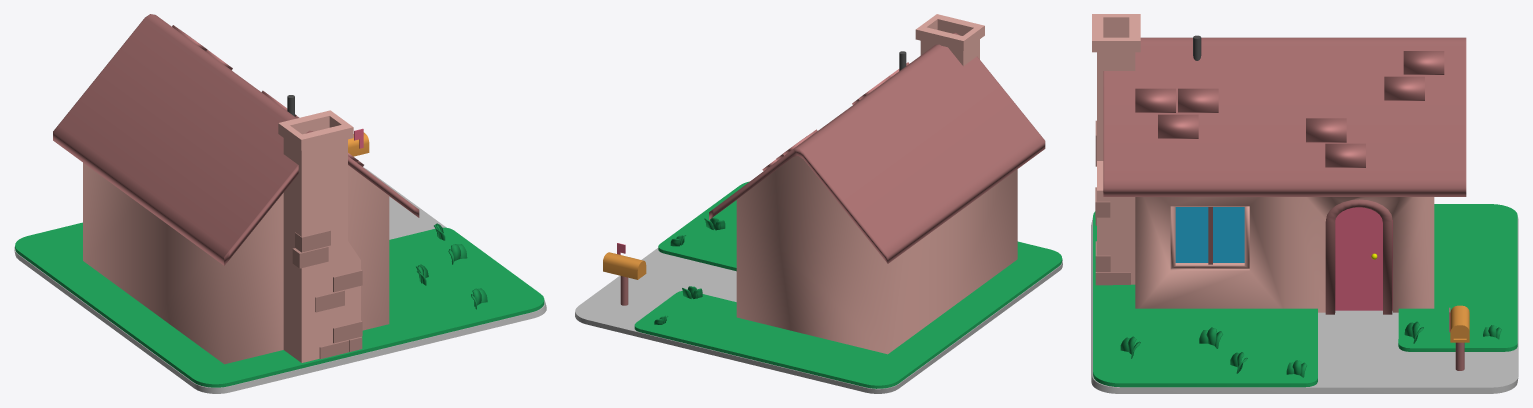
Rendered from testhouse.glb.
The picture shows the model from 3 angles, left to right: view 1: azimuth 30°, elevation 25°; view 2: azimuth 150°, elevation 25°; view 3: azimuth 270°, elevation 25°; orthographic projection. The views are drawn at different scales.
Parts seen in each view (by area): view 1: Plane.002, Plane.001, Plane.015, Plane.007, Plane, Cube.002, Cube.003, Cube, Cube.001, Cube.005; view 2: Plane.001, Plane.002, Plane.015, Plane, Plane.007, Cube.007; view 3: Plane.002, Plane.015, Plane.001, Plane, Plane.007, Plane.004, Plane.005, Plane.003, Plane.008, Plane.009, Plane.010, Plane.011 (+5 smaller).
Boxes of the visible parts, <box> form: Plane.002: <box>53,14,419,265</box>; Plane.001: <box>83,163,389,364</box>; Plane.015: <box>15,222,544,387</box>; Plane.007: <box>278,110,360,362</box>; Plane: <box>14,167,546,393</box>; Cube.002: <box>292,246,328,268</box>; Cube.003: <box>295,230,330,252</box>; Cube: <box>333,269,362,292</box>; Cube.001: <box>315,290,344,312</box>; Cube.005: <box>333,320,362,343</box>; Plane.001: <box>736,156,1017,354</box>; Plane.002: <box>709,32,1045,263</box>; Plane.015: <box>634,181,1062,388</box>; Plane: <box>575,248,1062,393</box>; Plane.007: <box>915,14,984,66</box>; Cube.007: <box>603,252,646,279</box>; Plane.002: <box>1103,37,1466,196</box>; Plane.015: <box>1093,204,1517,387</box>; Plane.001: <box>1135,197,1434,312</box>; Plane: <box>1091,216,1518,393</box>; Plane.007: <box>1092,14,1140,284</box>; Plane.004: <box>1335,207,1392,310</box>; Plane.005: <box>1175,207,1244,262</box>; Plane.003: <box>1325,199,1392,314</box>; Plane.008: <box>1135,88,1175,112</box>; Plane.009: <box>1178,88,1218,112</box>; Plane.010: <box>1158,114,1198,138</box>; Plane.011: <box>1306,118,1346,142</box>.
Bounding box in the file's own units: 48.81 × 31.44 × 48.82.
